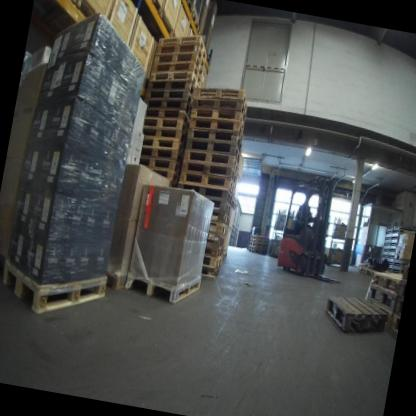forklift: (269, 155, 362, 289)
pallet: (0, 255, 109, 329), (120, 266, 204, 309), (320, 288, 393, 337), (154, 27, 209, 63), (147, 57, 205, 87), (155, 39, 208, 70), (152, 47, 205, 78), (148, 66, 204, 95), (183, 147, 241, 175), (186, 123, 243, 151), (177, 167, 236, 194), (195, 85, 250, 113), (189, 101, 246, 128), (181, 159, 238, 182), (142, 102, 192, 128), (188, 116, 244, 139), (193, 95, 246, 119), (187, 136, 242, 159), (142, 93, 191, 117), (152, 74, 198, 99), (139, 113, 188, 135), (143, 84, 194, 105), (363, 300, 396, 332), (188, 182, 234, 203), (365, 282, 399, 310), (365, 265, 402, 290), (142, 123, 186, 144), (105, 261, 133, 291), (141, 135, 186, 152), (140, 144, 181, 162), (148, 166, 181, 186), (144, 158, 180, 172), (357, 262, 383, 278), (209, 200, 231, 218), (209, 213, 232, 230), (201, 255, 223, 272), (204, 233, 226, 249), (200, 264, 221, 280), (209, 222, 228, 237), (187, 11, 201, 31), (205, 246, 224, 260), (213, 250, 227, 268), (393, 295, 403, 318), (389, 313, 399, 335), (177, 0, 193, 13), (248, 243, 269, 252), (399, 277, 407, 298), (249, 236, 269, 244), (247, 248, 267, 255), (401, 264, 409, 281), (250, 233, 269, 240), (249, 241, 269, 247), (230, 203, 238, 209)
stillage: (328, 214, 349, 240), (325, 241, 345, 267), (272, 208, 292, 233), (268, 232, 284, 256)
